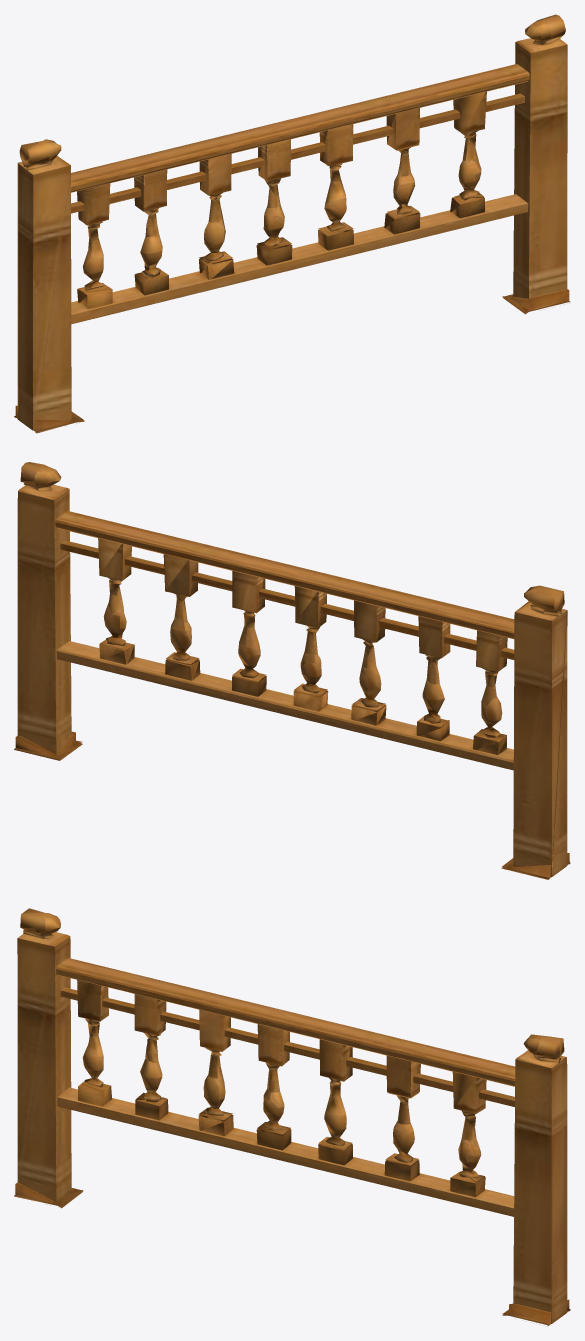
Rendered from railing.lod1.glb.
The picture shows the model from 3 angles, top to bottom: view 1: azimuth 30°, elevation 25°; view 2: azimuth 150°, elevation 25°; view 3: azimuth 330°, elevation 25°; orthographic projection.
Size of the model in its own units: 2 by 1 by 0.15.
1 material, 1 textured.
